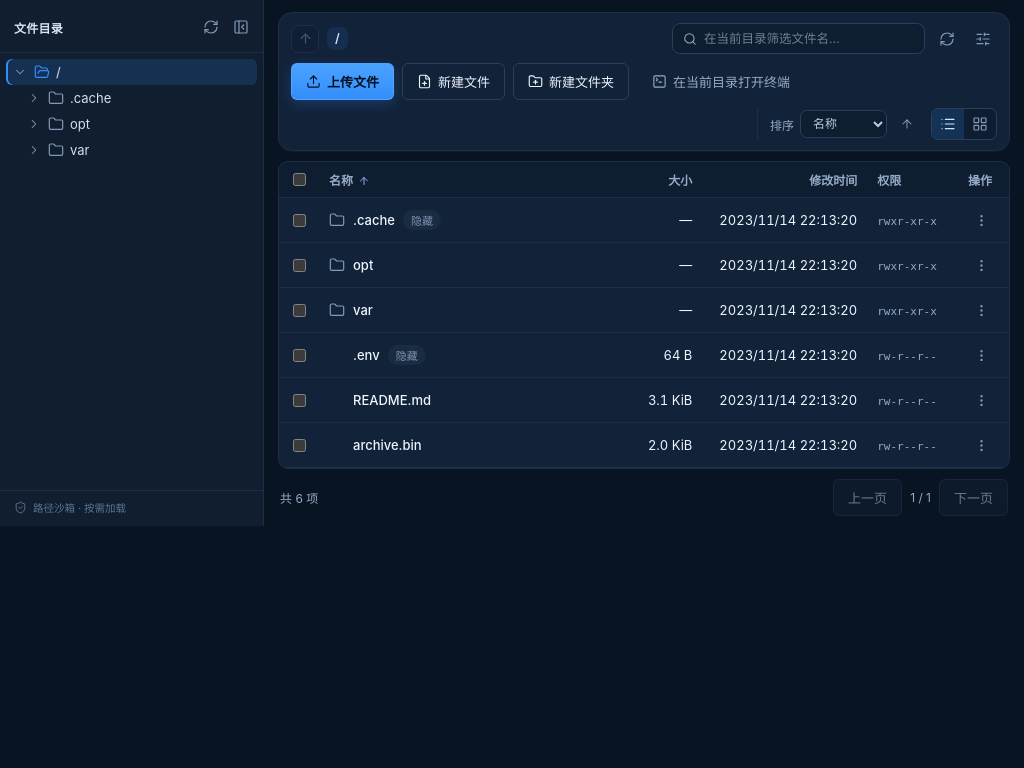
Test: FileWorkspace › confirms batch delete, then reports the real counters
This screenshot has width=1024, height=768.
Click the checkbox named "选择 README.md": click(300, 400) x1=293 y1=394 x2=306 y2=406
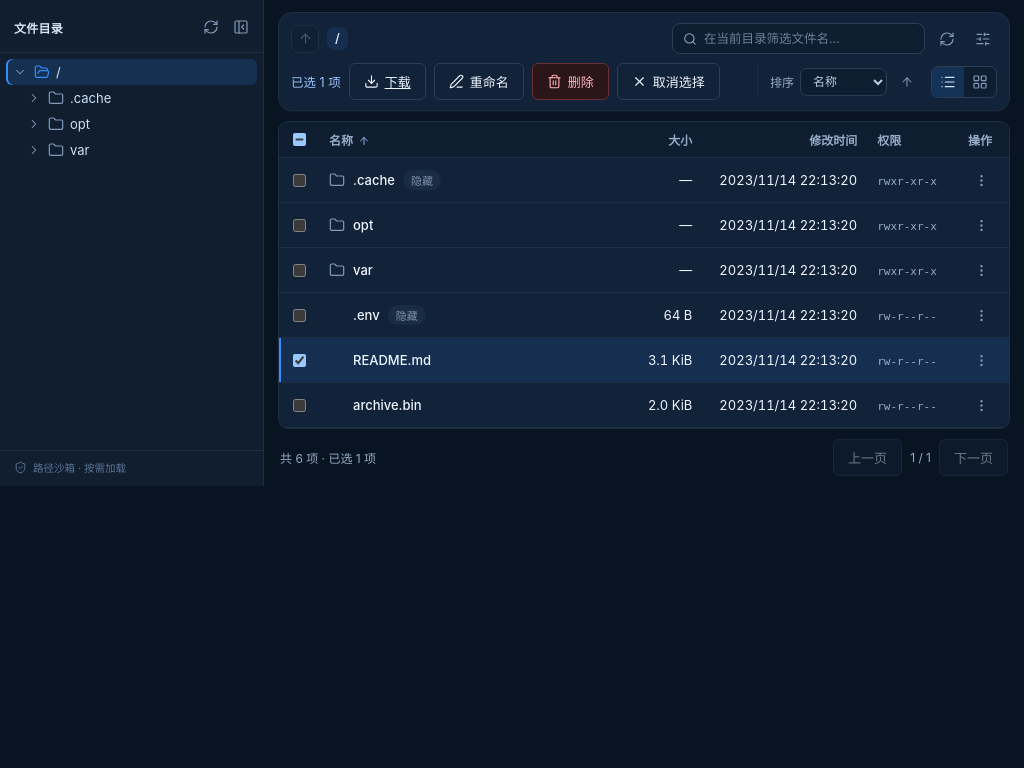
Click the checkbox named "选择 .env": click(300, 315) x1=293 y1=308 x2=306 y2=322
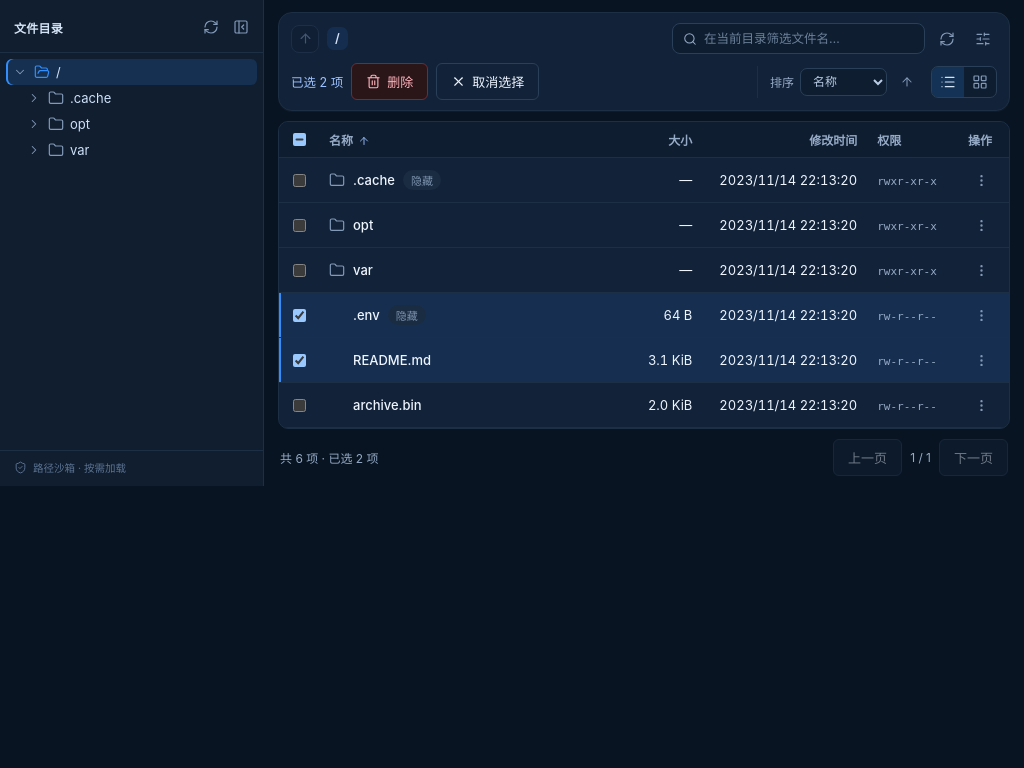
Expected: the message with class "ed-selection-count" reads "已选 2 项", x1=291 y1=72 x2=343 y2=91
Click the button "删除": click(390, 82) x1=351 y1=63 x2=428 y2=100
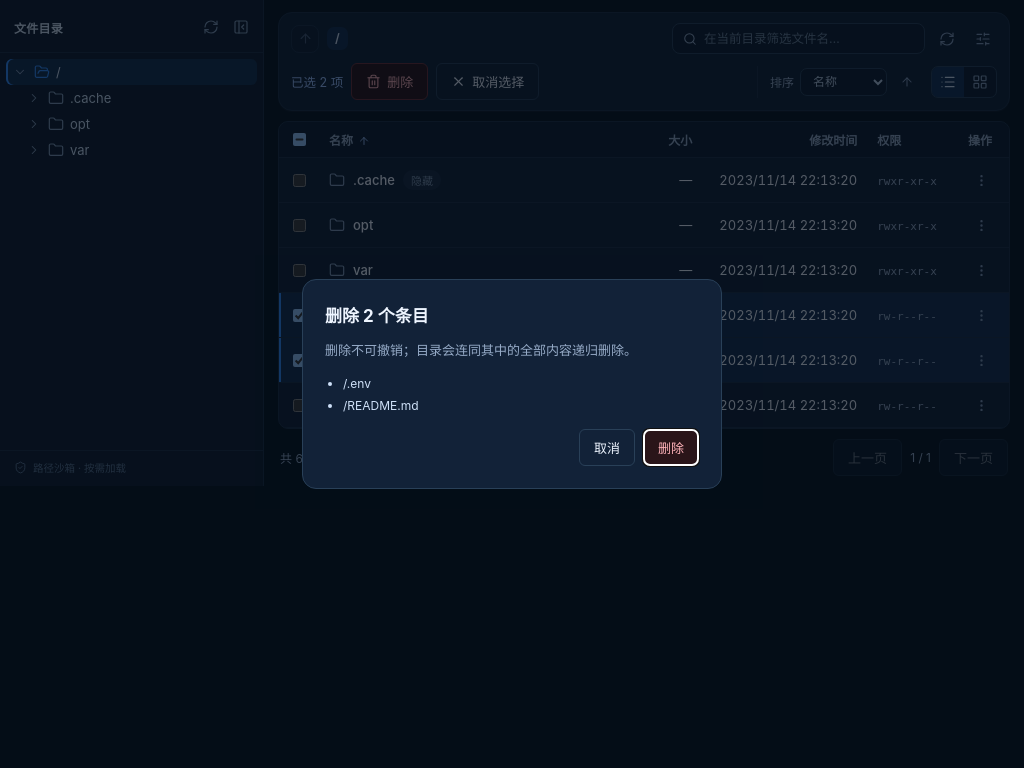
Expected: the dialog shows "/README.md", x1=343 y1=398 x2=419 y2=413
Expected: the dialog shows "/.env", x1=343 y1=376 x2=371 y2=392
Click the button with class "danger" showing "删除": click(671, 447) x1=643 y1=429 x2=699 y2=466
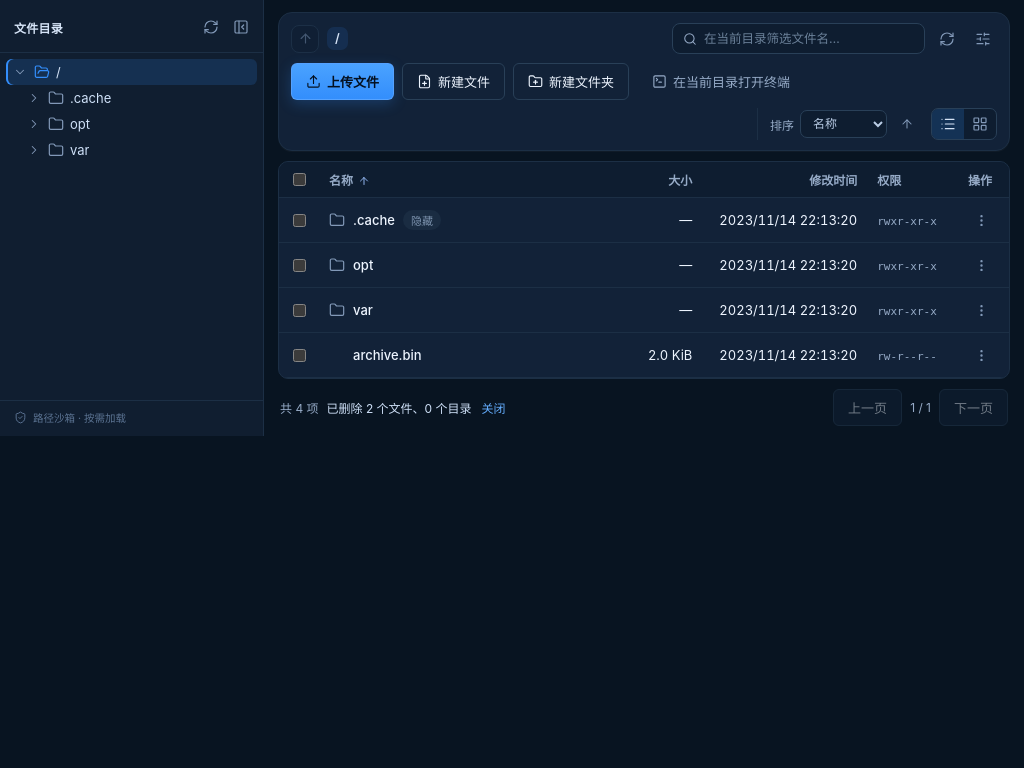
Expected: the text "已删除 2 个文件、0 个目录" is shown, x1=326 y1=401 x2=472 y2=416
Expected: the message with class "ed-selection-count" is gone
